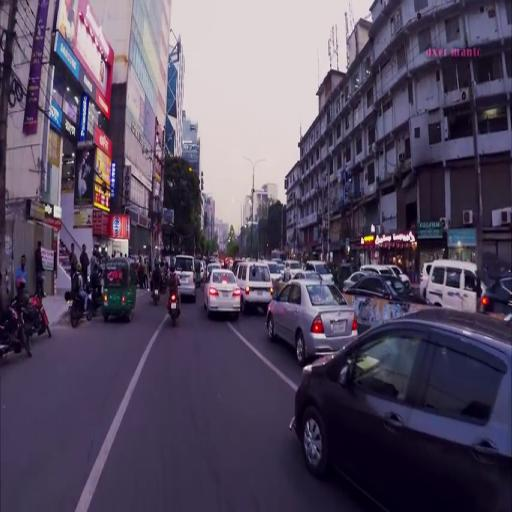car: (295, 307, 512, 510), (266, 279, 359, 360), (345, 273, 427, 307), (204, 269, 242, 315), (284, 258, 303, 277), (269, 260, 283, 284)
minivan: (426, 258, 487, 310), (174, 254, 197, 297), (306, 258, 335, 286)
motorbike: (1, 293, 32, 363), (27, 287, 52, 338), (69, 286, 93, 327), (169, 284, 182, 323), (152, 276, 162, 304)
three wheelers (CNG): (103, 257, 136, 321)
van: (235, 259, 274, 307)
